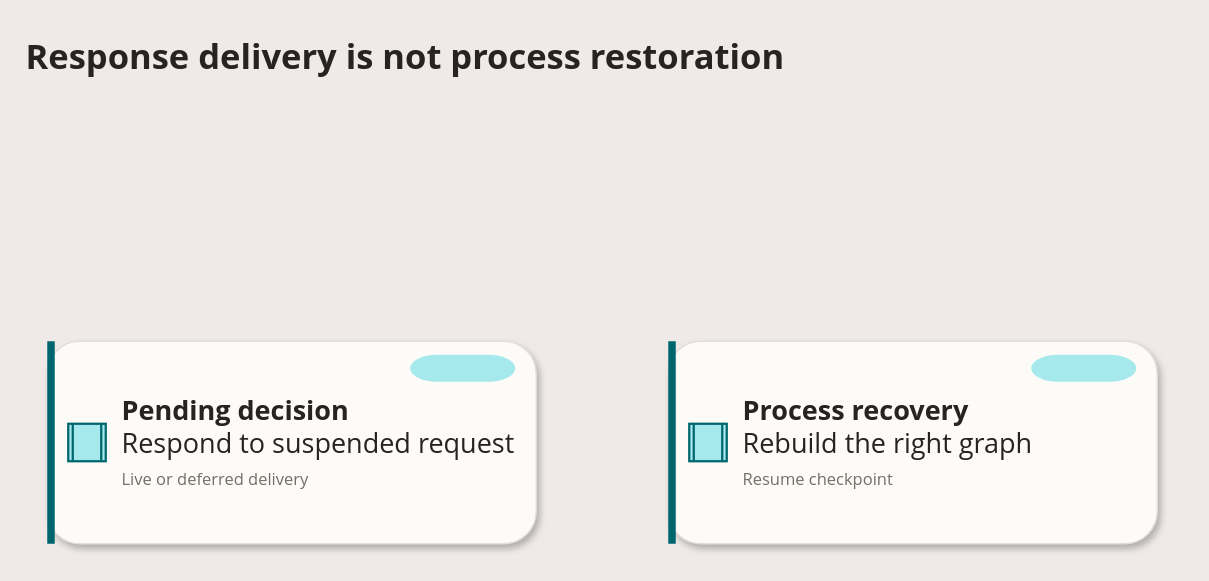
Some shapes in this 1209 by 581 pixel diagram are drawn without their labels. The centre of each missing label's shape, as x and y in pixels:
RESULT: point 1083,367
SCOPE: point 462,367
